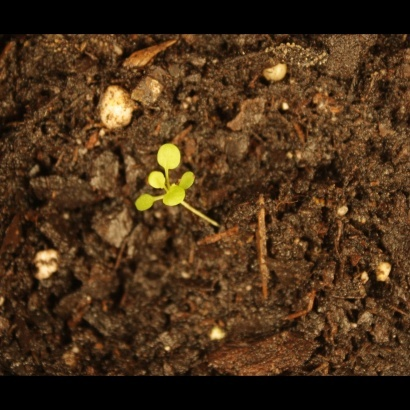leaf: (153, 140, 188, 171), (162, 186, 190, 213), (133, 193, 158, 217), (146, 169, 169, 192), (176, 169, 199, 192)
